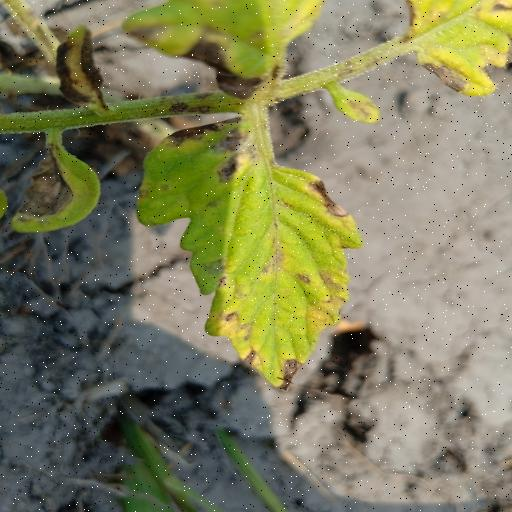Tomato_Brown_Spots: (130, 112, 376, 395)
